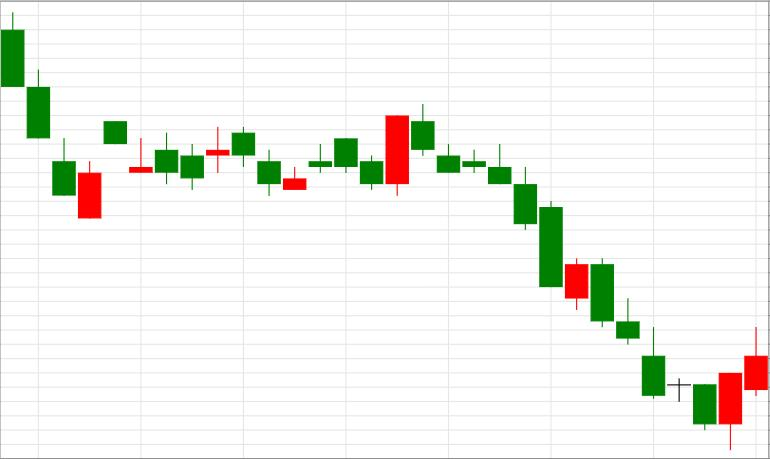bullish_engulfing_rise: (591, 259, 741, 451), (308, 114, 409, 196)
